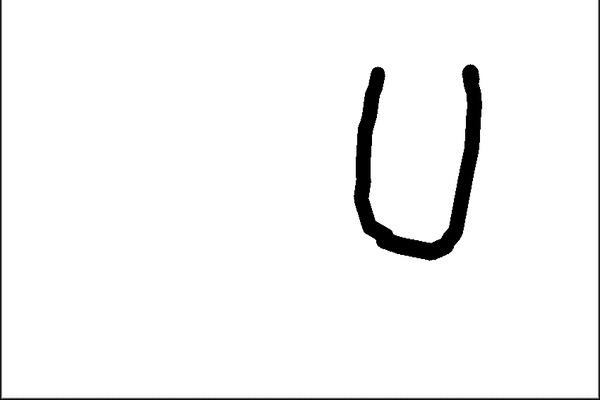U: (337, 43, 498, 266)
